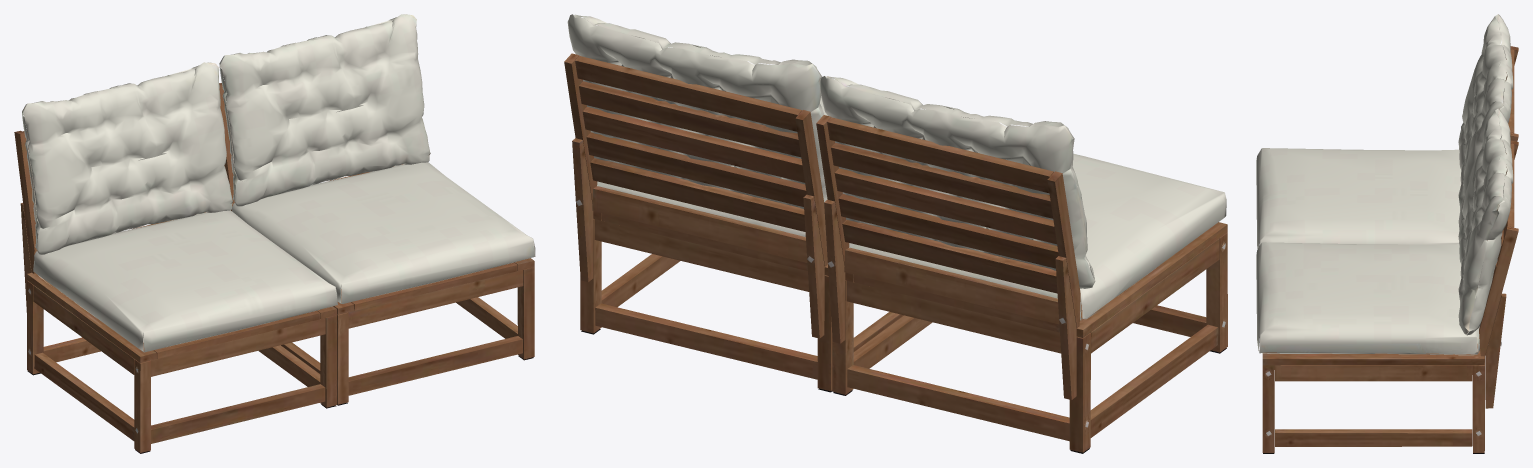
Rendered from ikea-nammaro-2-seat-outdoor-sofa-light-brown-beige-grey.glb.
3 views of the same model, side by side, from view 1: azimuth 30°, elevation 25°; view 2: azimuth 150°, elevation 25°; view 3: azimuth 270°, elevation 25° (orthographic). The views are drawn at different scales.
Parts seen in each view (by area): view 1: Mesh_0; view 2: Mesh_0; view 3: Mesh_0.
Boxes of the visible parts, x1,y1,x2,y2 form: Mesh_0: (14, 14, 535, 453); Mesh_0: (564, 14, 1227, 453); Mesh_0: (1256, 14, 1518, 453).
Bounding box in the file's own units: 1.27 × 0.7978 × 0.7426.
Materials: 1 (1 with a texture image).
